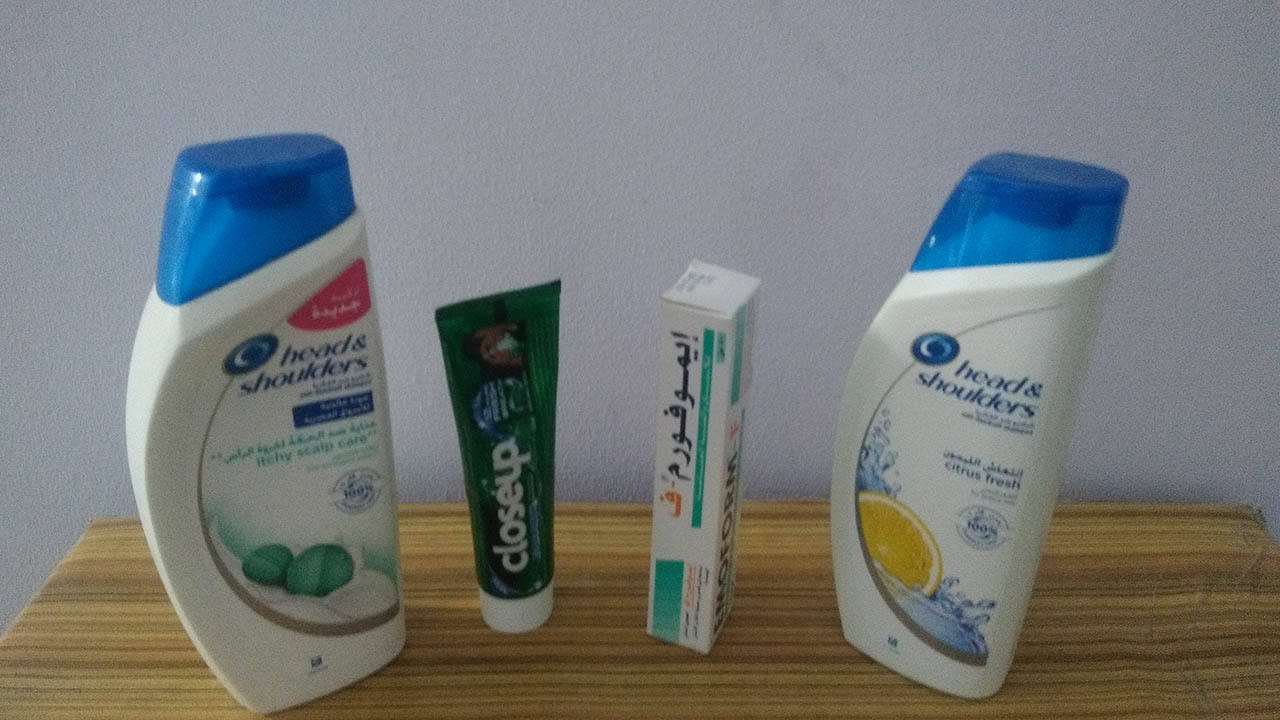Toothpaste-Closeup 3.04$: (440, 273, 573, 679)
Toothpaste-F 1.5$: (628, 273, 769, 657)
shampoo-Lemon 3.5$: (830, 159, 1126, 700)
shampoo-green 4.5$: (115, 118, 412, 692)
